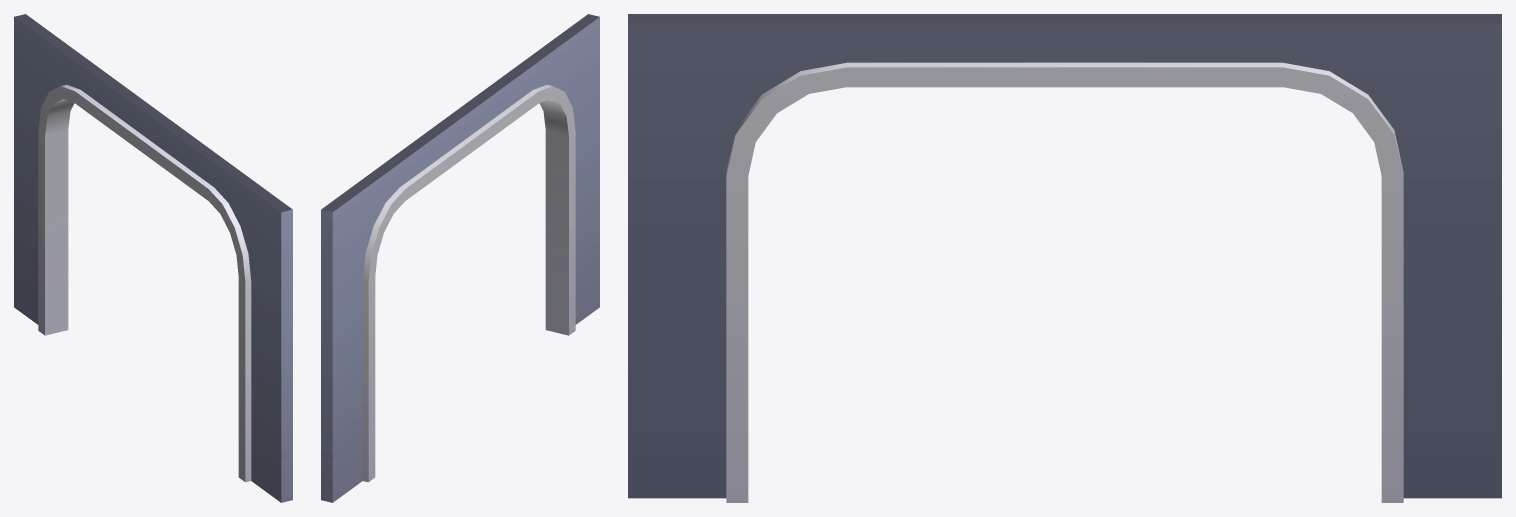
Rendered from wall-doorway-wide-round.optimized.glb.
3 renders of one model, left to right at view 1: azimuth 30°, elevation 25°; view 2: azimuth 150°, elevation 25°; view 3: azimuth 270°, elevation 25°, orthographic. The views are drawn at different scales.
Parts seen in each view (by area): view 1: wall-doorway-wide-round; view 2: wall-doorway-wide-round; view 3: wall-doorway-wide-round.
Boxes of the visible parts, <box> form: wall-doorway-wide-round: <box>14,14,292,502</box>; wall-doorway-wide-round: <box>321,14,599,502</box>; wall-doorway-wide-round: <box>628,14,1501,502</box>.
Bounding box in the file's own units: 0.2002 × 2.4 × 4.
1 material, 1 textured.
